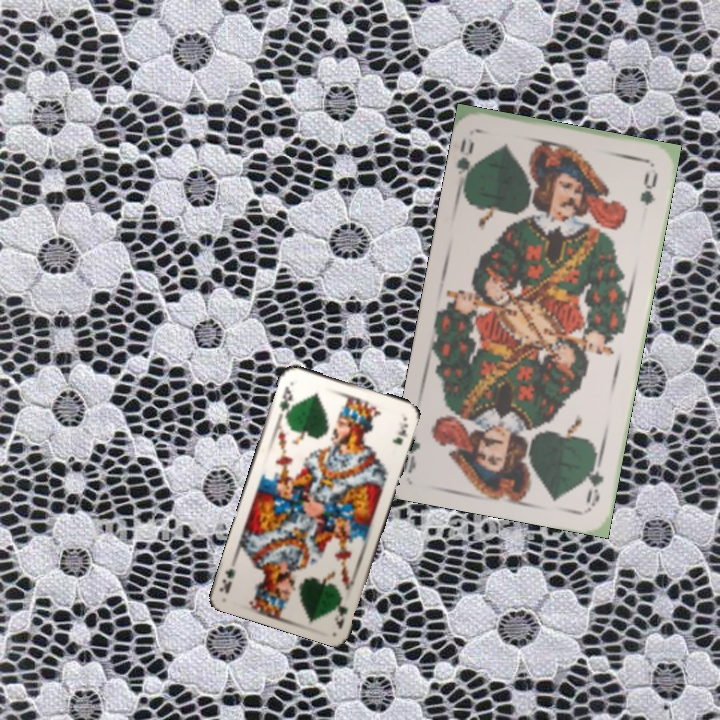GK: (331, 592, 350, 632), (275, 382, 295, 417)
GO: (452, 133, 481, 190), (582, 449, 607, 509)
